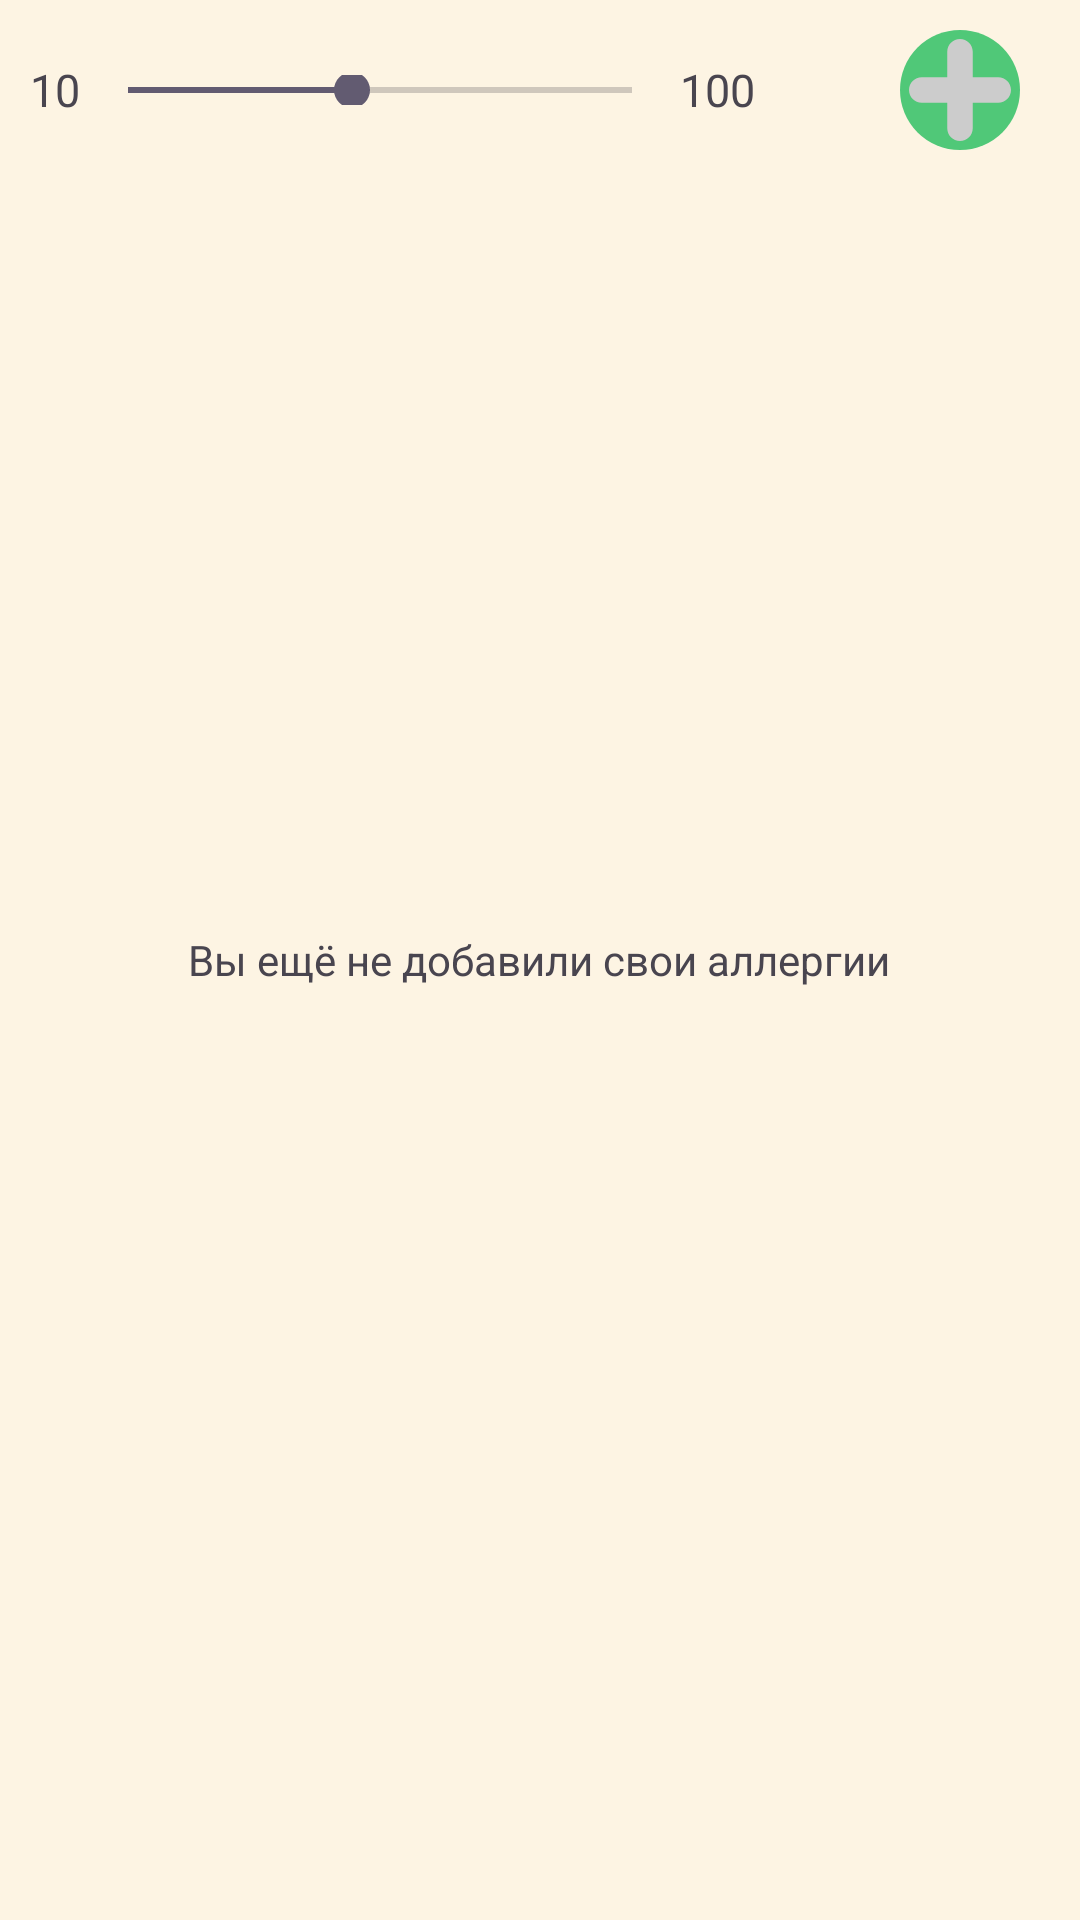

Where to tap for icons on this 1080x1920 app screen, as (x,y):
plus: (960,90)
